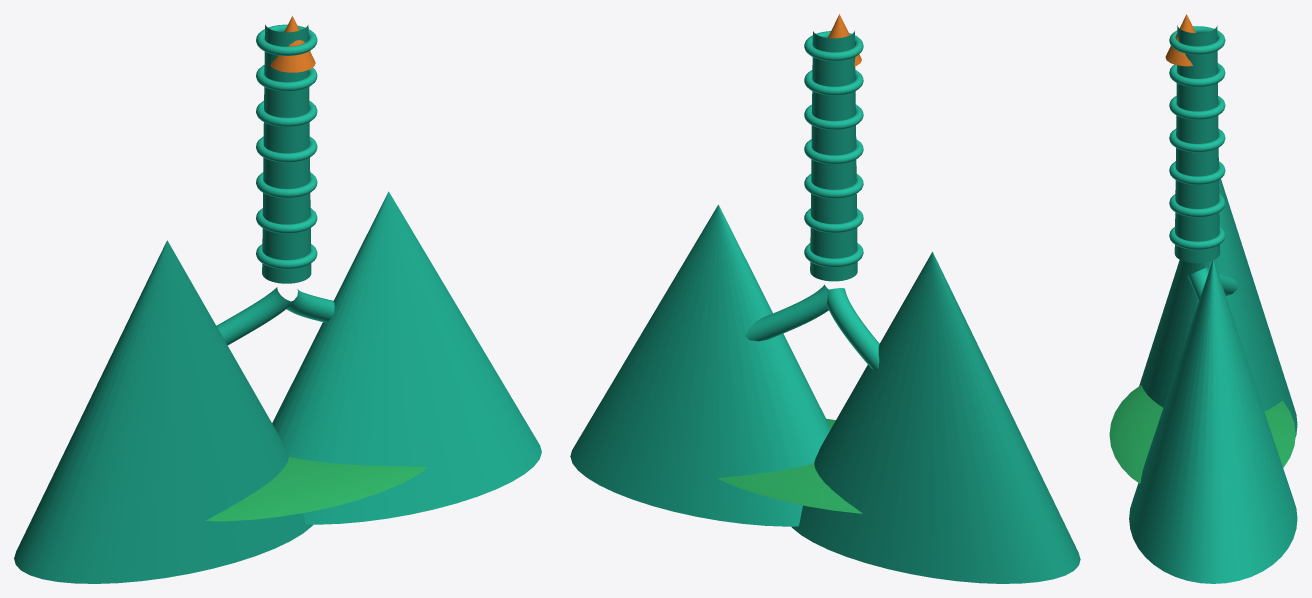
File: respiratory.glb
3 views of the same model, side by side, from view 1: azimuth 30°, elevation 25°; view 2: azimuth 150°, elevation 25°; view 3: azimuth 270°, elevation 25° (orthographic). The views are drawn at different scales.
Parts seen in each view (by area): view 1: RightLung, LeftLung, Trachea, Diaphragm, TrachealRing (×7), Bronchus (×2), NasalCavity; view 2: RightLung, LeftLung, Trachea, TrachealRing (×7), Bronchus (×2), Diaphragm; view 3: LeftLung, RightLung, Trachea, Diaphragm, TrachealRing (×7), Bronchus (×2), NasalCavity.
Boxes of the visible parts, x1,y1,x2,y2 form: RightLung: (14,240,312,583); LeftLung: (272,191,541,524); Trachea: (262,24,311,283); Diaphragm: (206,456,427,521); TrachealRing (×7): (256,24,317,269); Bronchus (×2): (216,287,334,345); NasalCavity: (270,16,315,72); RightLung: (791,252,1080,583); LeftLung: (570,204,830,526); Trachea: (810,30,857,281); TrachealRing (×7): (804,31,863,267); Bronchus (×2): (745,284,879,370); Diaphragm: (716,418,862,513); LeftLung: (1129,259,1297,583); RightLung: (1139,179,1297,436); Trachea: (1174,25,1219,263); Diaphragm: (1109,385,1295,483); TrachealRing (×7): (1169,26,1225,249); Bronchus (×2): (1187,266,1237,301); NasalCavity: (1165,14,1195,66).
Bounding box in the file's own units: 2.04 × 1.91 × 0.7073.
